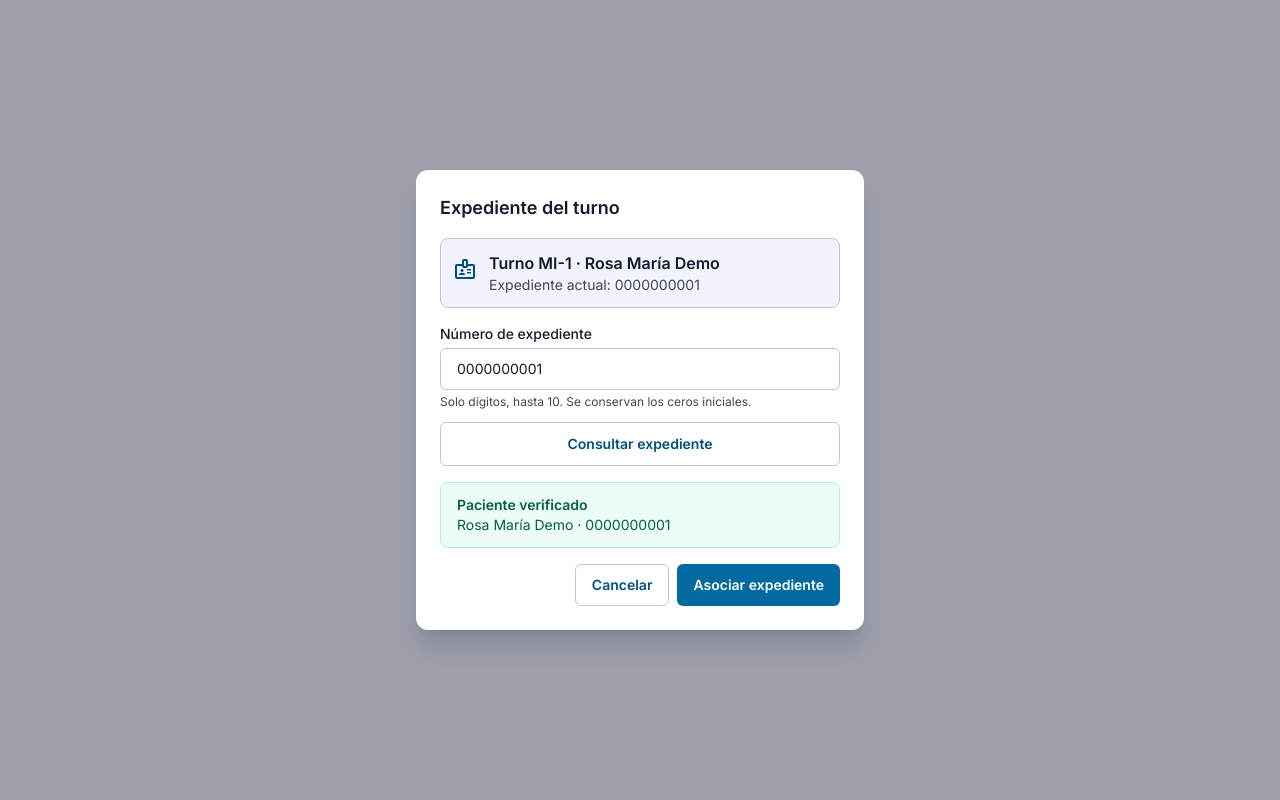
Test: ModalExpediente › bloquea expedientes de otro paciente
Clear the field labelled "Número de expediente": point(640, 369) [440,348,840,390]
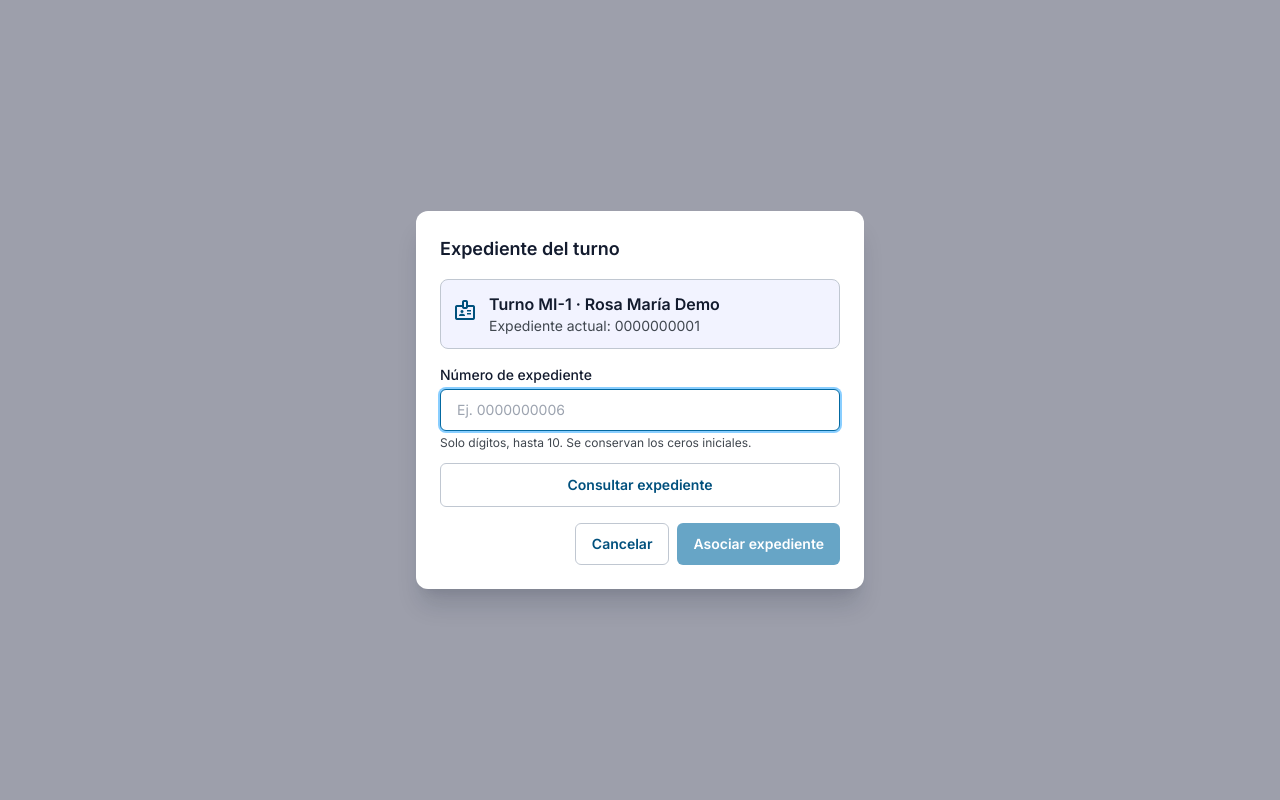
In the field labelled "Número de expediente": point(640, 410) [440,389,840,431], type "0000000999"
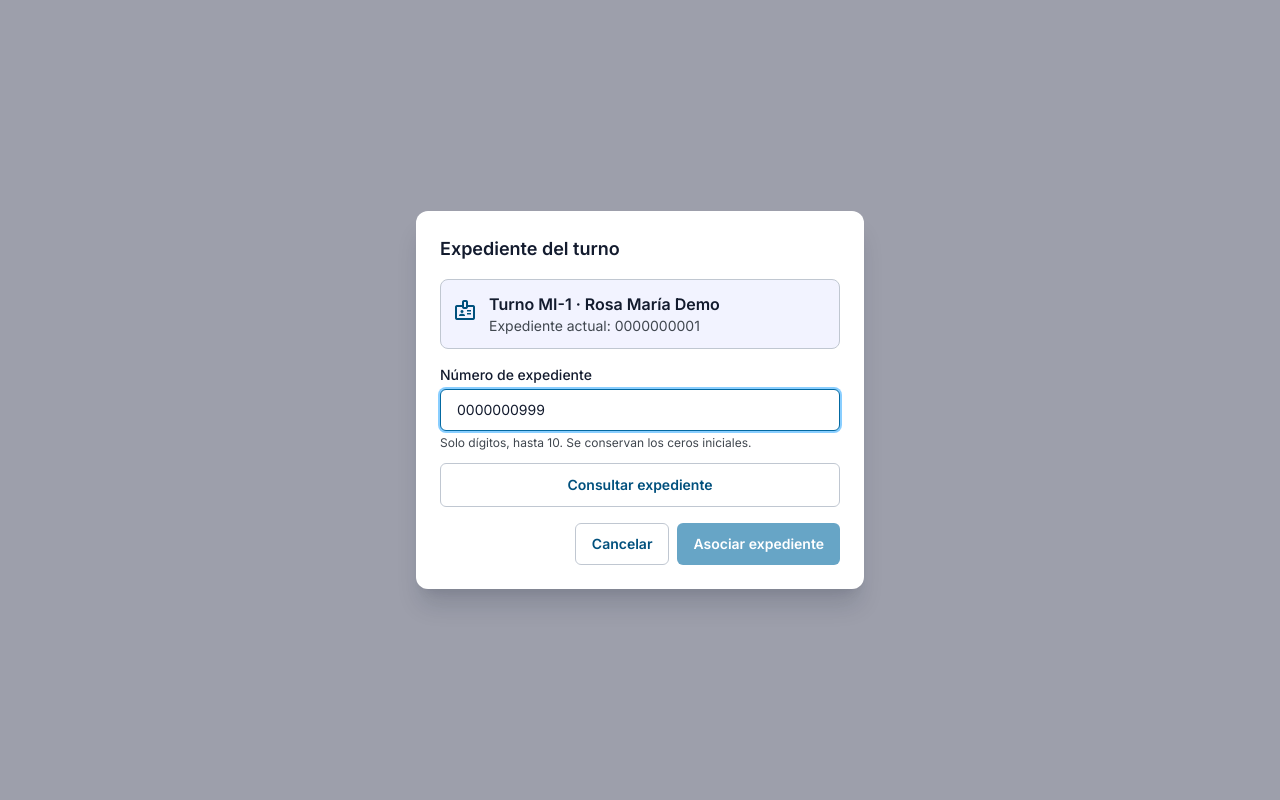
Click the button "Consultar expediente": point(640, 485) [440,463,840,507]
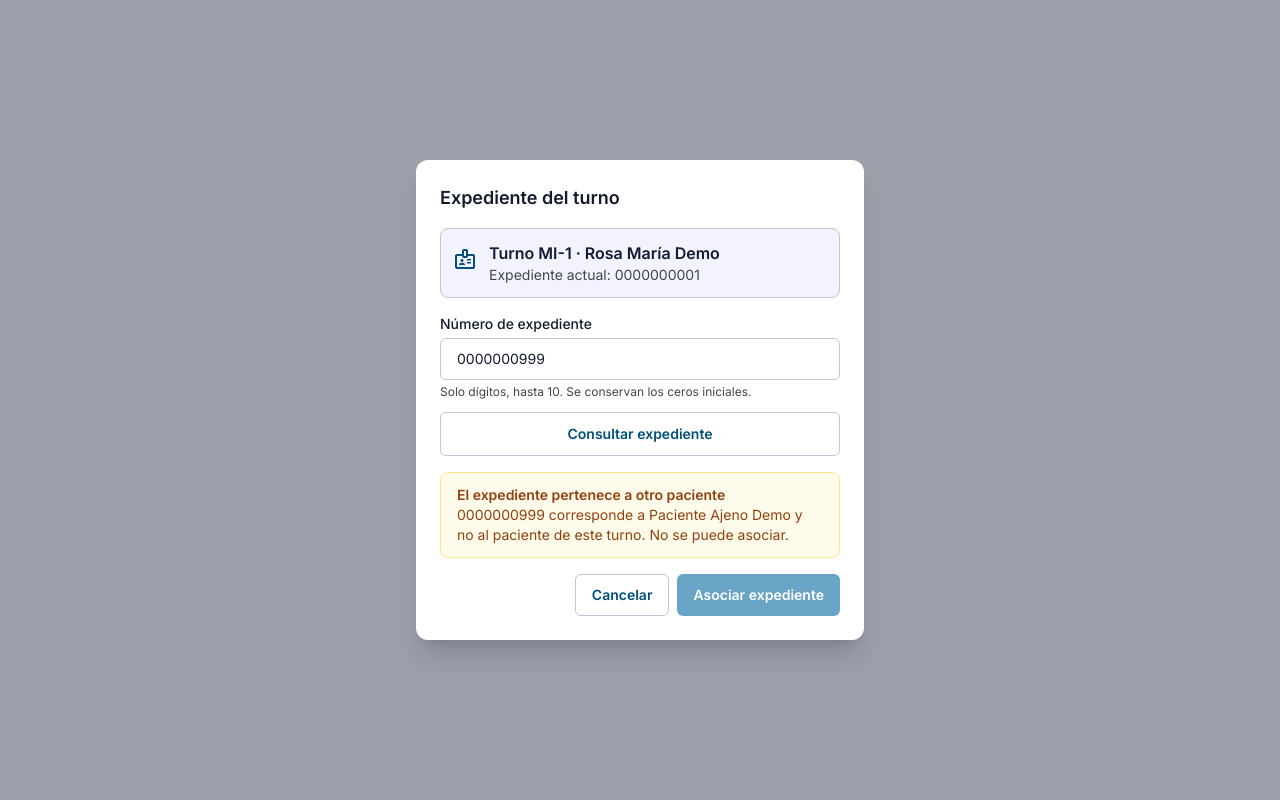
Expected: the button "Asociar expediente" is disabled, [678,574,840,616]
Expected: the text "El expediente pertenece a otro paciente" is shown, [457,486,725,503]
